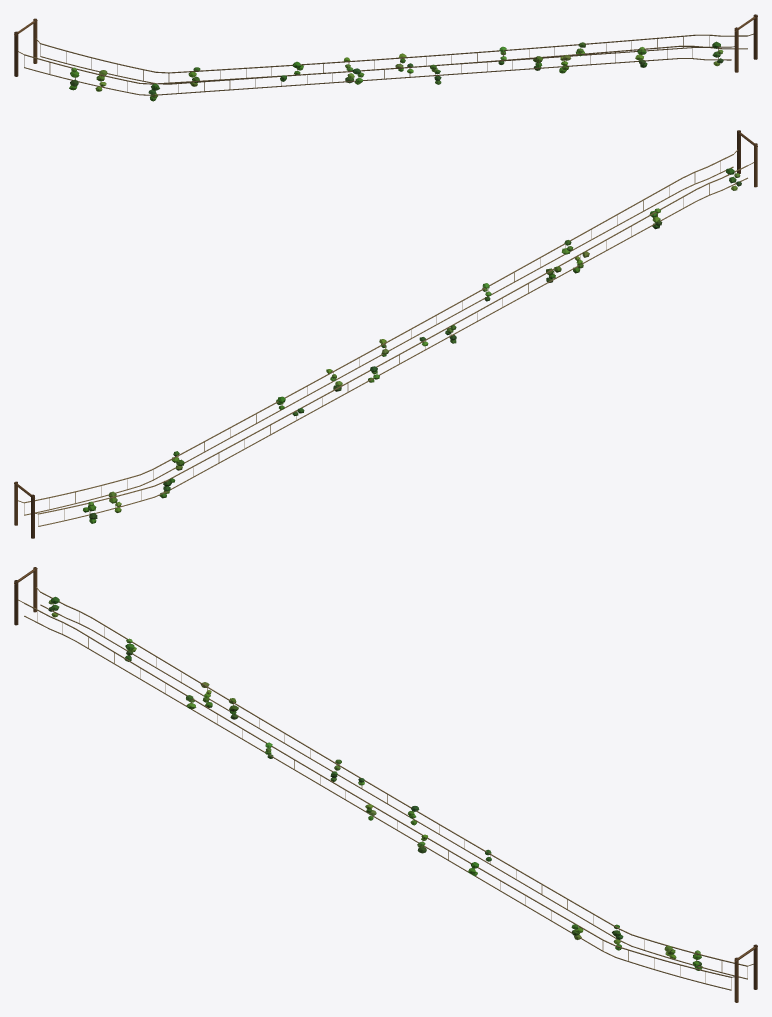
File: SM_Bridge_05_06_Rails.fbx
The picture shows the model from 3 angles, top to bottom: view 1: azimuth 90°, elevation 25°; view 2: azimuth 150°, elevation 25°; view 3: azimuth 270°, elevation 25°; orthographic projection. The views are drawn at different scales.
Visible parts, largest first — view 1: SM_Bridge_05_06_Rails; view 2: SM_Bridge_05_06_Rails; view 3: SM_Bridge_05_06_Rails.
Part boxes in pixels (x1,y1,x2,y2): SM_Bridge_05_06_Rails: [14, 14, 757, 101]; SM_Bridge_05_06_Rails: [14, 130, 757, 538]; SM_Bridge_05_06_Rails: [14, 567, 757, 1002].
Size of the model in its own units: 37.16 by 20.12 by 57.82.
